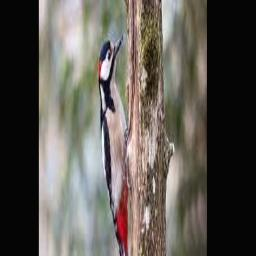Woodpecker: (98, 33, 132, 256)
